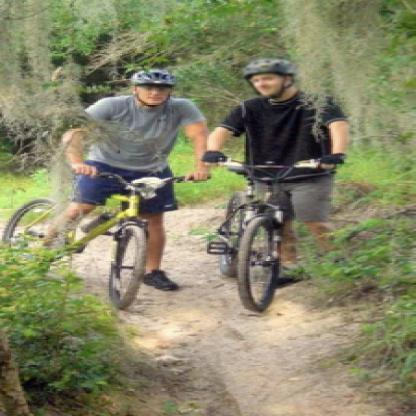Helmet: (239, 59, 303, 99), (131, 67, 176, 111)
